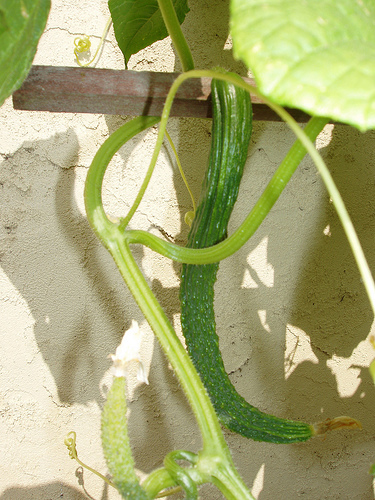cucumber: (178, 68, 363, 445)
